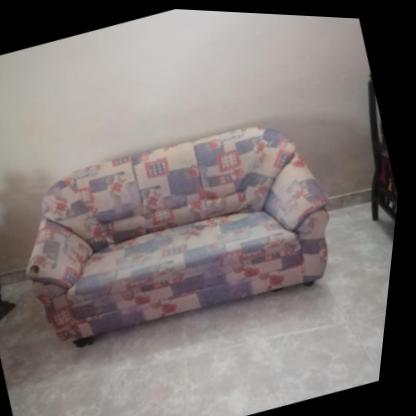Ceramic floor: (0, 195, 399, 416)
Sofa: (0, 92, 364, 368)
